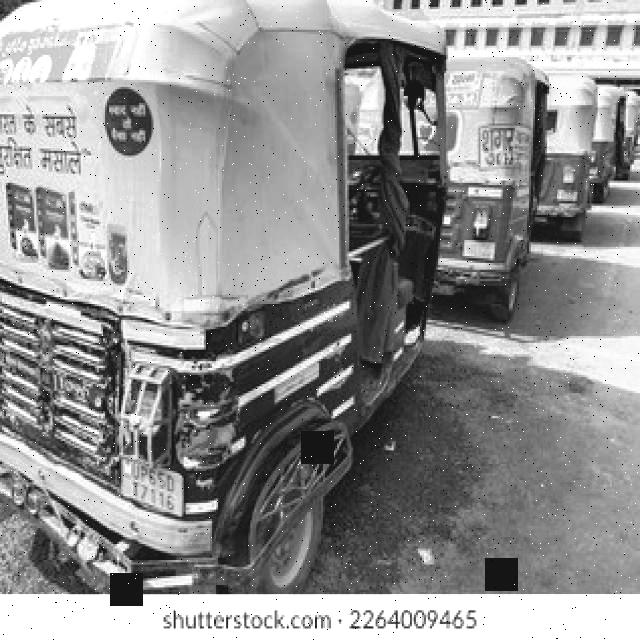Auto-Rickshaw: (4, 3, 486, 604)
